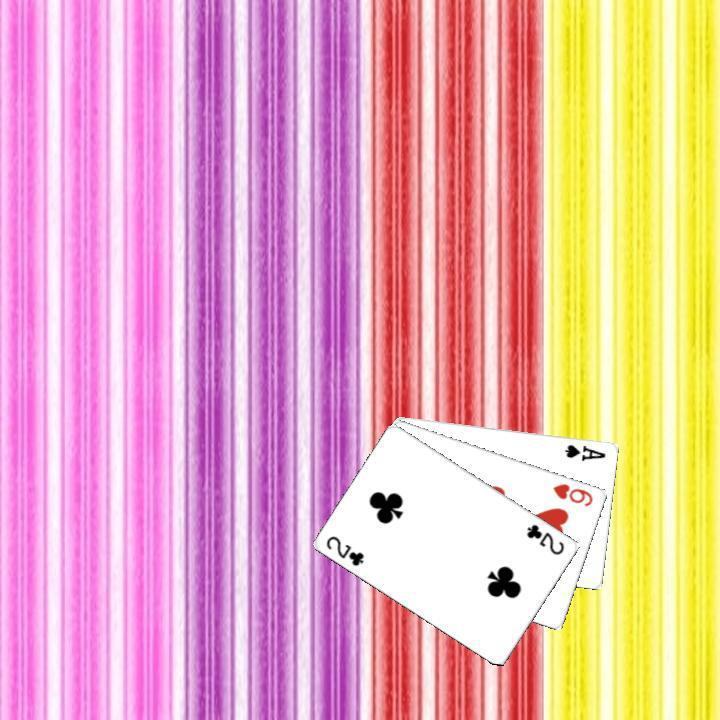2: (522, 520, 567, 557), (322, 531, 366, 568)
6: (549, 479, 595, 508)
A: (561, 440, 608, 463)
